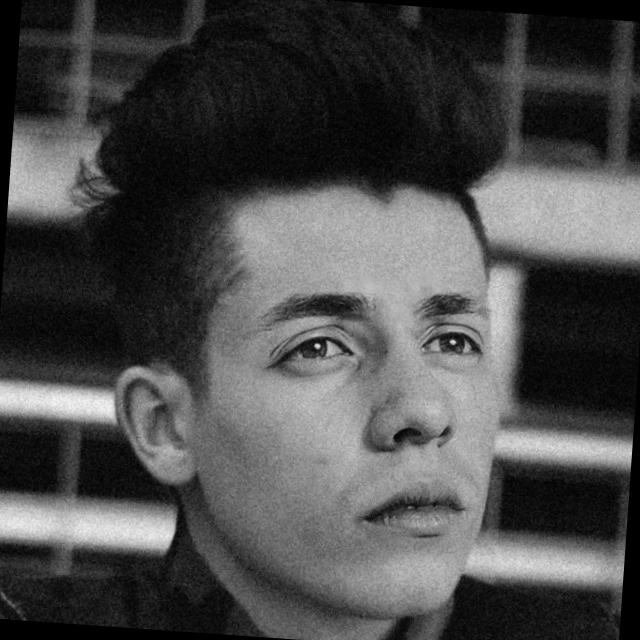face: (41, 44, 556, 622)
